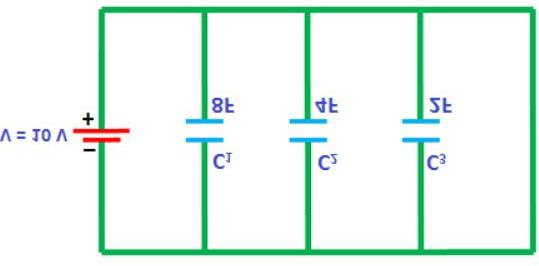Capacitor: (386, 103, 447, 152)
